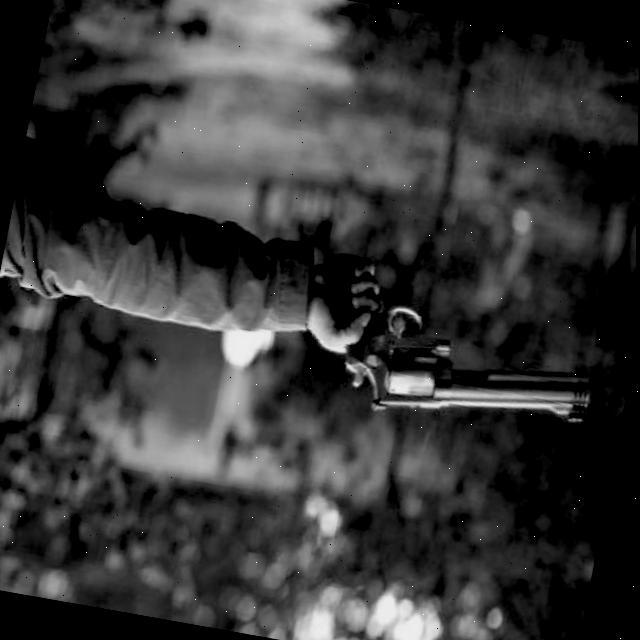gun: (314, 248, 610, 448)
